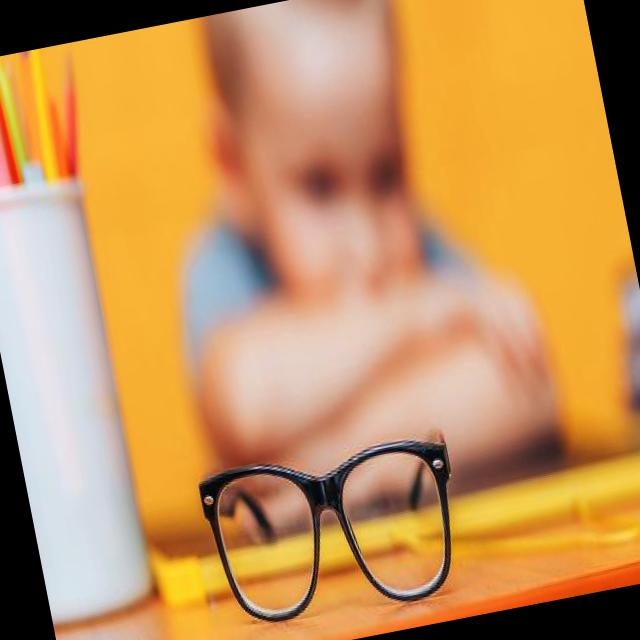glasses: (197, 428, 476, 638)
